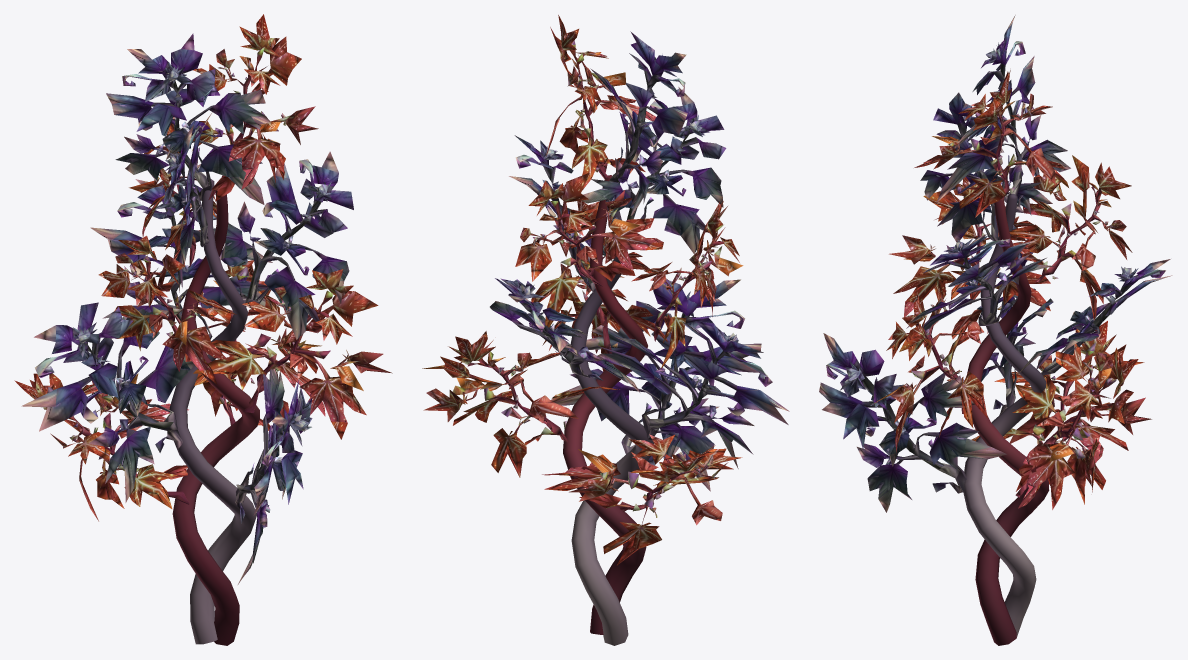
Rendered from sunset_braid.glb.
3 views of the same model, side by side, from view 1: azimuth 30°, elevation 25°; view 2: azimuth 150°, elevation 25°; view 3: azimuth 270°, elevation 25° (orthographic). The views are drawn at different scales.
Visible parts, largest first — view 1: Mesh; view 2: Mesh; view 3: Mesh.
Boxes of the visible parts, bbox=[...] form: Mesh: bbox=[14, 14, 392, 645]; Mesh: bbox=[422, 15, 789, 645]; Mesh: bbox=[819, 15, 1172, 645].
Size of the model in its own units: 0.6964 by 1.24 by 0.6754.
Materials: 1 (1 with a texture image).
